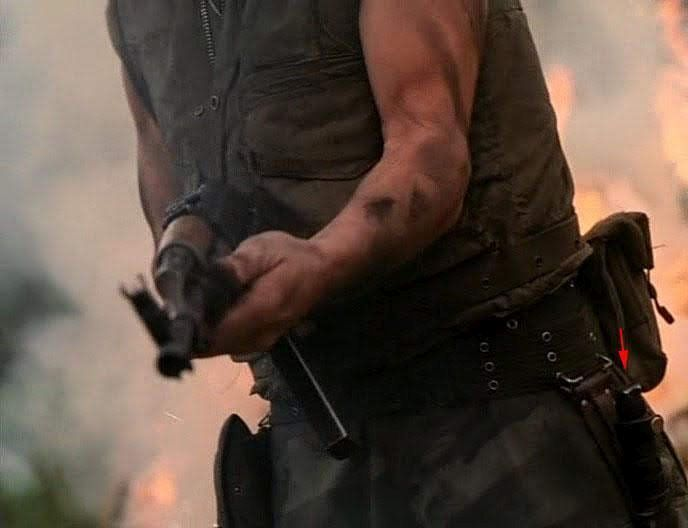gun: (134, 202, 370, 457)
